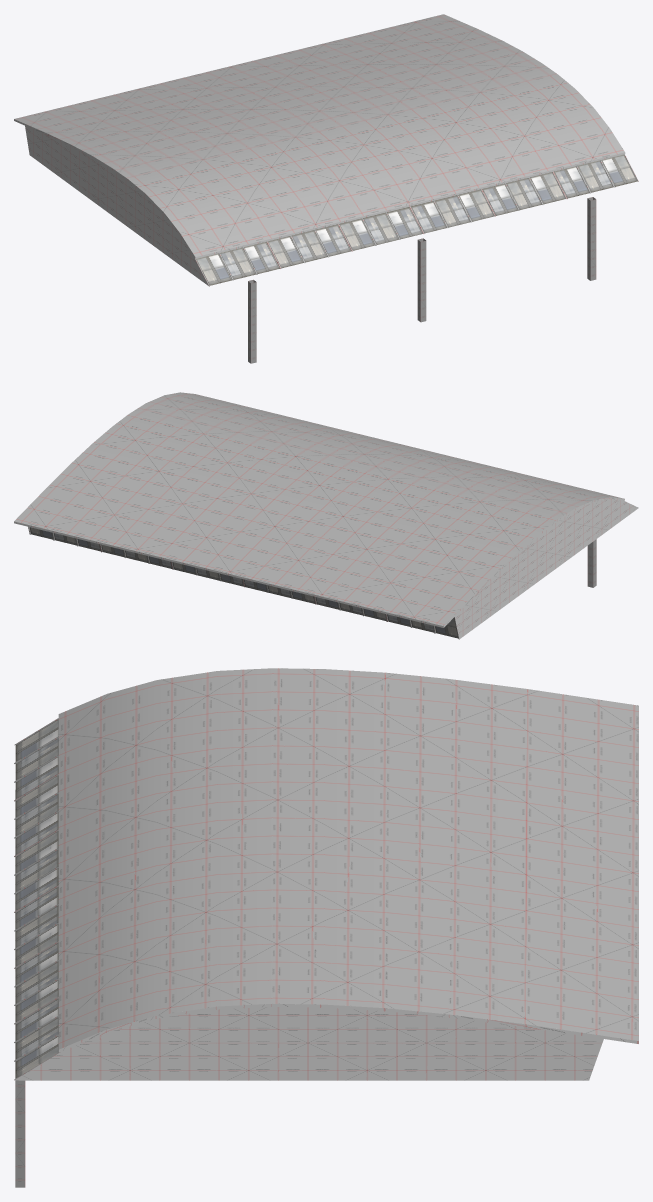
File: terminal_roof_d.FBX
3 renders of one model, top to bottom at view 1: azimuth 30°, elevation 25°; view 2: azimuth 150°, elevation 25°; view 3: azimuth 270°, elevation 25°, orthographic. The views are drawn at different scales.
Parts seen in each view (by area): view 1: terminal_roof_d; view 2: terminal_roof_d; view 3: terminal_roof_d.
Boxes of the visible parts, x1,y1,x2,y2 form: terminal_roof_d: (14, 14, 638, 363); terminal_roof_d: (14, 392, 638, 639); terminal_roof_d: (14, 668, 638, 1187).
Bounding box in the file's own units: 160 × 48.28 × 126.
5 materials, 5 textured.
